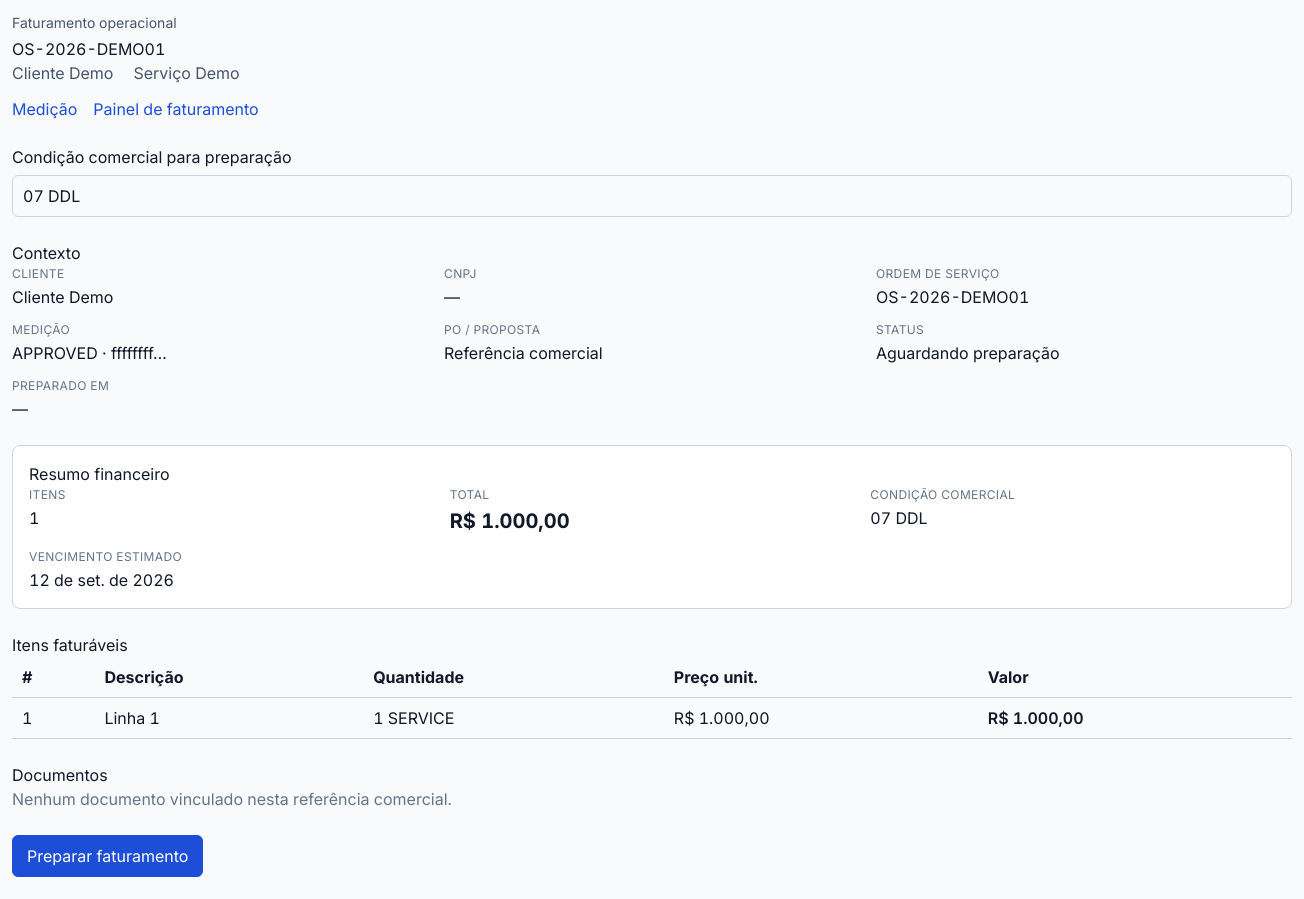
it: ServiceOrderBillingPage › blocks prepare when terms diverge and allows after adopting authoritative terms
Replace the text in the field labelled "Condição comercial para preparação" with "À vista" at (652, 196), box [12, 175, 1292, 217]
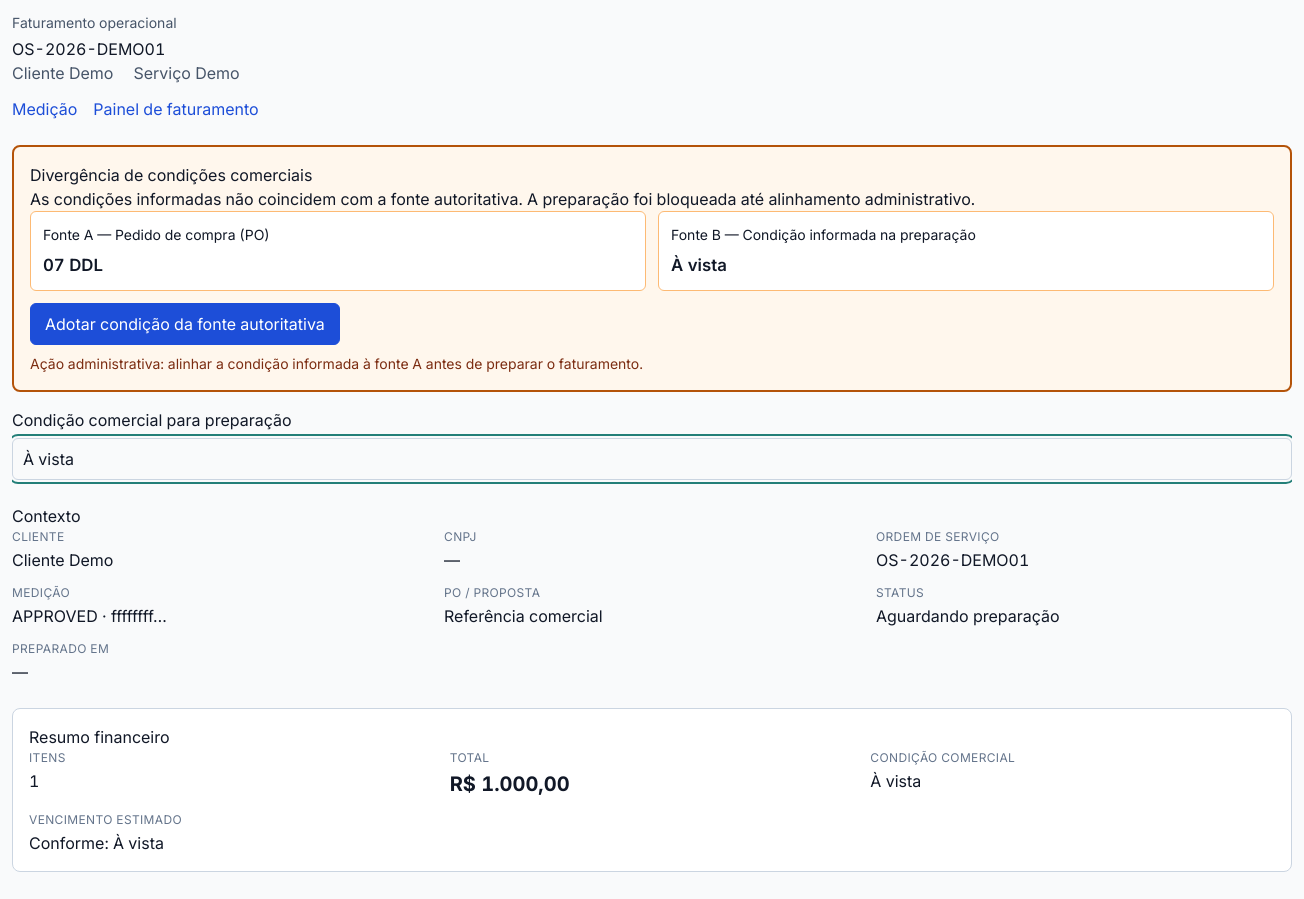
Click the button "Adotar condição da fonte autoritativa" at (185, 324), box [30, 303, 340, 345]
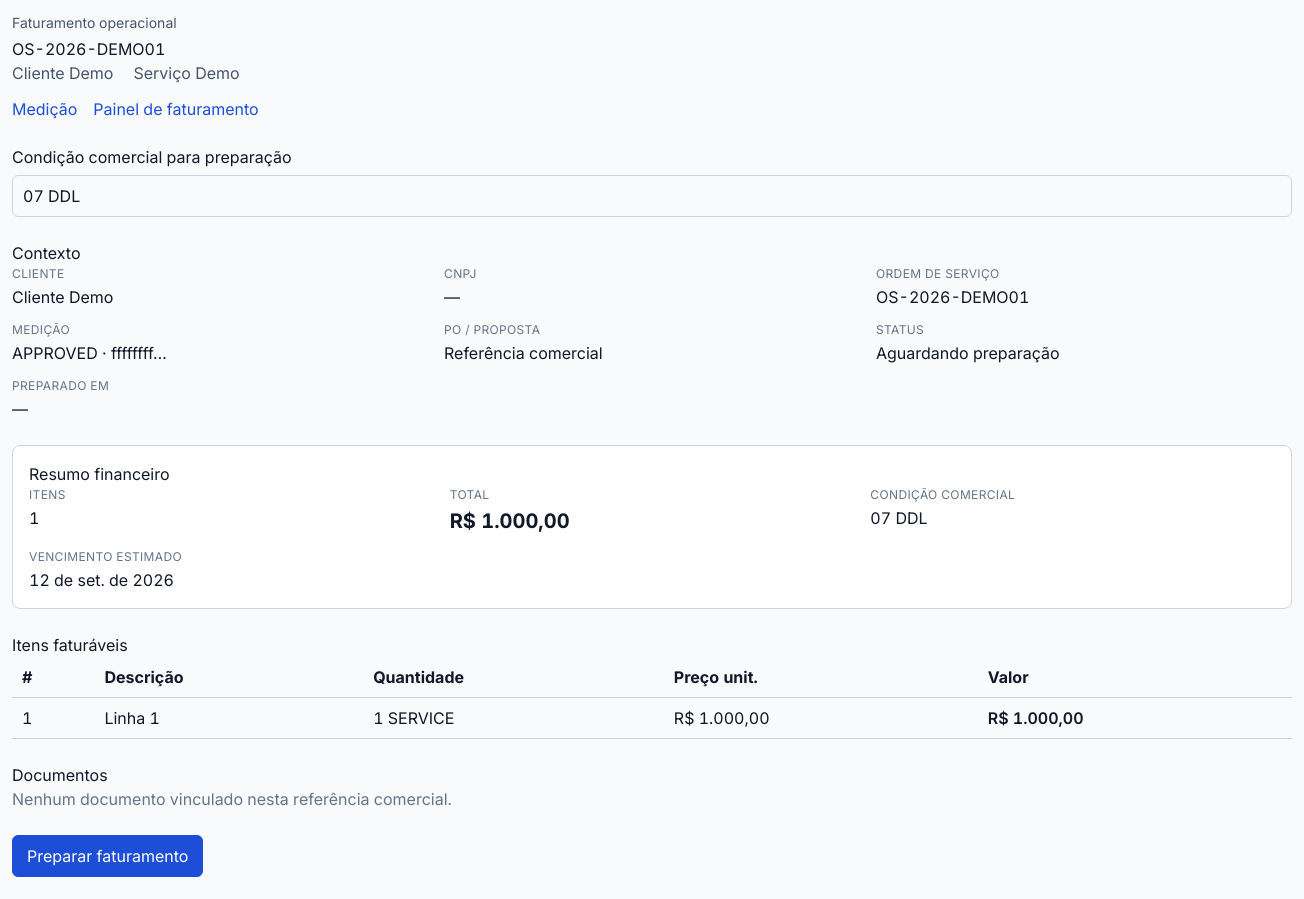
Expected: the button "Preparar faturamento" is enabled, [12, 835, 203, 877]
